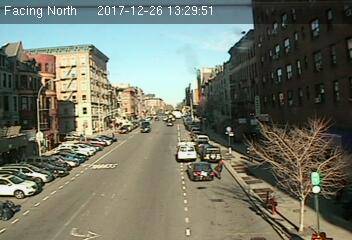car: (187, 161, 213, 181), (202, 148, 222, 162)
truck: (176, 140, 196, 161)
